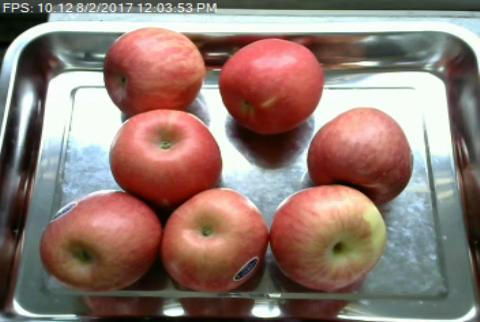apple: (269, 184, 385, 289), (41, 191, 159, 290), (160, 188, 266, 291), (109, 110, 221, 205), (307, 108, 413, 197), (221, 38, 322, 131), (104, 27, 203, 112)
